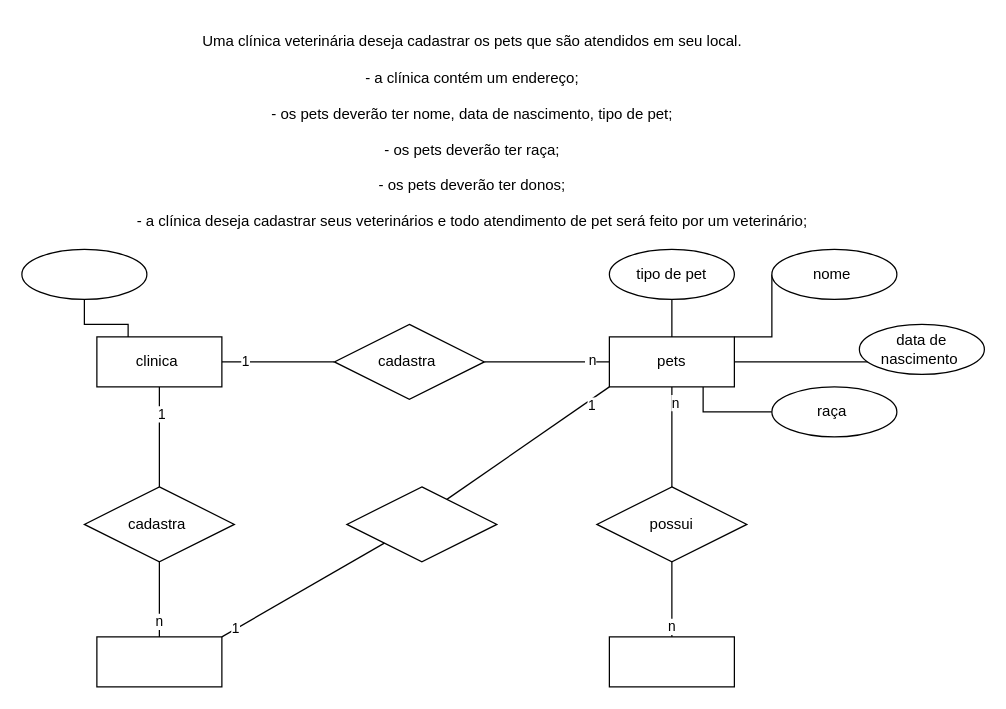
The diagram is 1006 pixels wide and 709 high, and some of its shapes have lost their labels. Here are the shapes that lost their labels. From the top down, the centre of each, then its label:
At point (84, 273): "Endereço".
At point (421, 524): "Atende".
At point (159, 661): "veterinário".
At point (671, 661): "donos".
